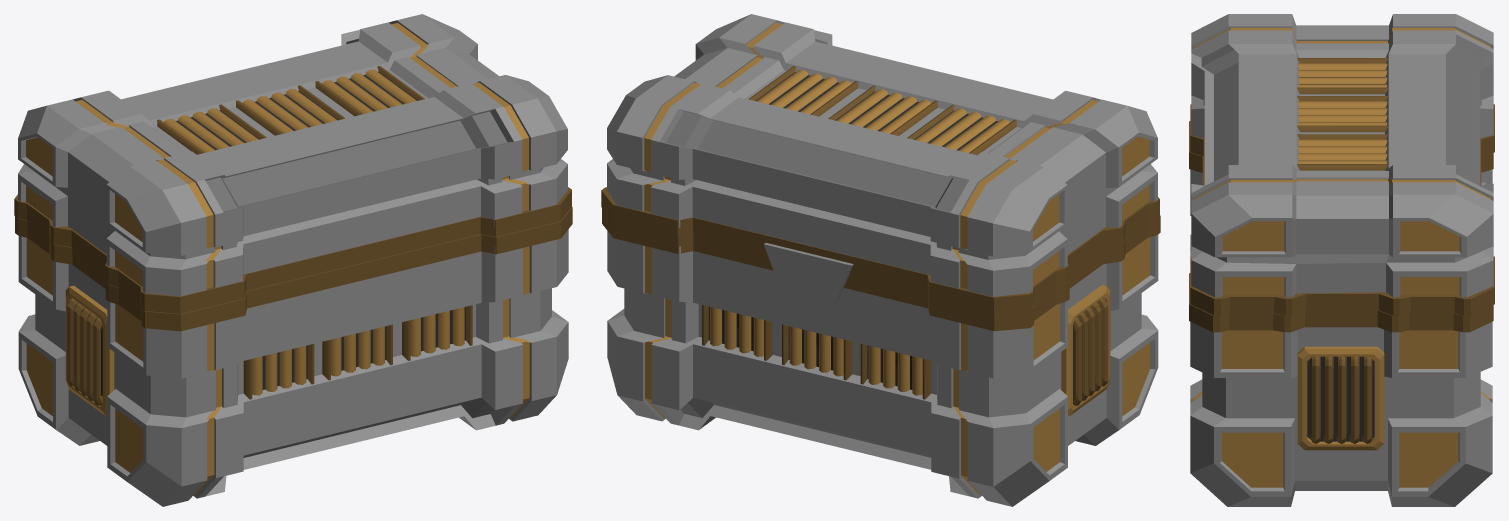
File: chest.glb
The picture shows the model from 3 angles, left to right: view 1: azimuth 30°, elevation 25°; view 2: azimuth 150°, elevation 25°; view 3: azimuth 270°, elevation 25°; orthographic projection.
Visible parts, largest first — view 1: Props_ChestTop, Props_ChestBottom; view 2: Props_ChestTop, Props_ChestBottom; view 3: Props_ChestTop, Props_ChestBottom.
Part boxes in pixels (x1,y1,x2,y2): Props_ChestTop: (14, 14, 571, 313); Props_ChestBottom: (15, 207, 572, 506); Props_ChestTop: (601, 14, 1159, 314); Props_ChestBottom: (602, 208, 1160, 506); Props_ChestTop: (1190, 14, 1494, 315); Props_ChestBottom: (1189, 121, 1493, 506).
Bounding box in the file's own units: 1.29 × 0.911 × 0.8082.
